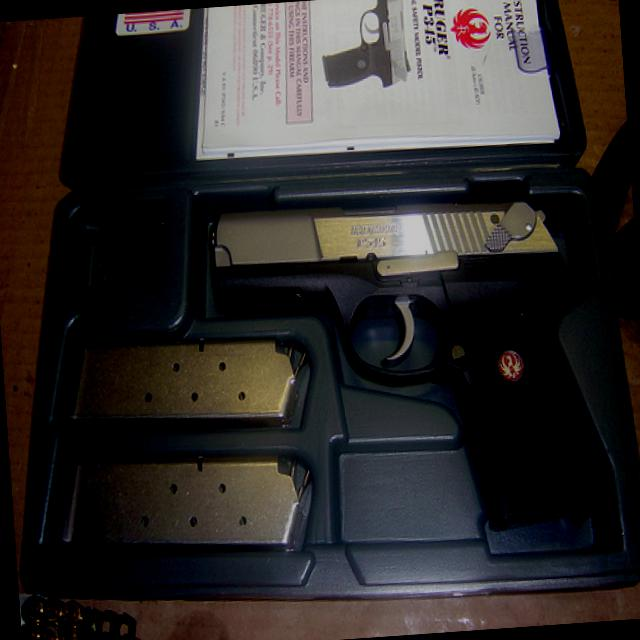handgun: (208, 176, 598, 552)
